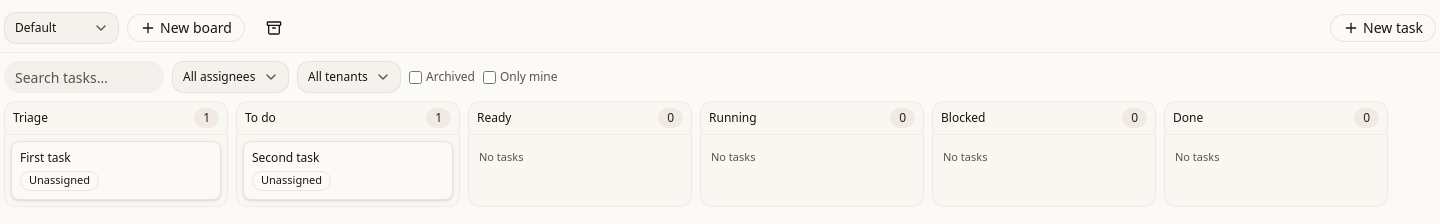
Test: KanbanPanel › narrows visible cards client-side with the search filter
Check: the text "First task" is shown, box [20,149,71,166]
Check: the text "Second task" is shown, box [252,149,320,166]
Type "First" into the field labelled "Search" at (84, 77), box [4,61,164,93]
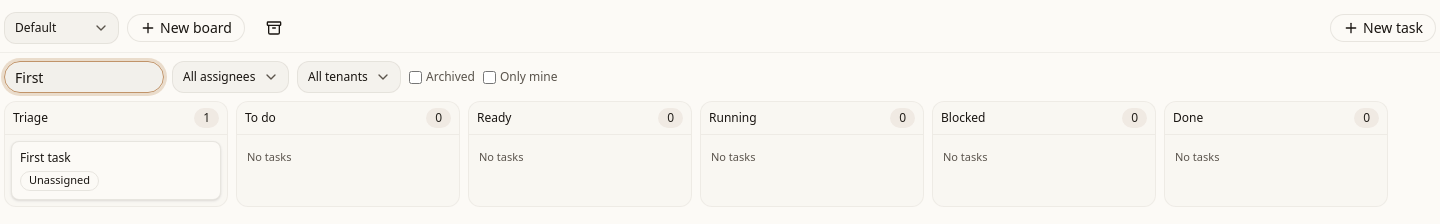
Check: the text "First task" is shown, box [20,149,71,166]
Check: the button "Second task" is gone
